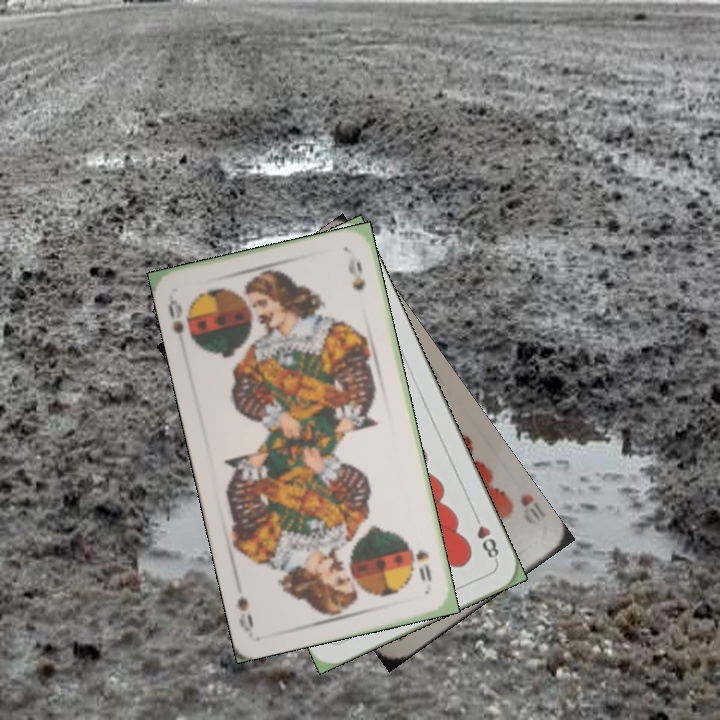H10: (516, 489, 544, 529)
H8: (469, 509, 502, 565)
SO: (164, 295, 187, 337), (411, 545, 434, 585)
